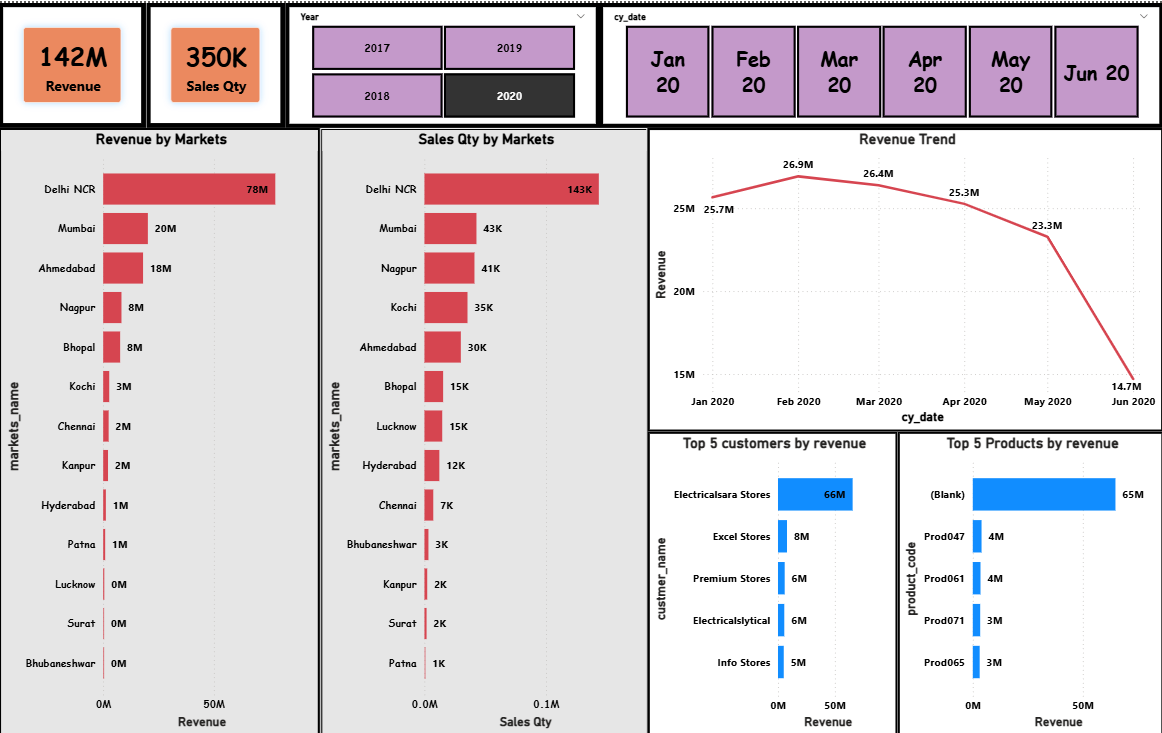

What the dashboard file says about the page in this screenshot:
{"tool":"powerbi","page":{"name":"Sales Dashboard","canvas":[1350,850],"ordinal":0},"visuals":[{"type":"cardVisual","fields":{"Data":["BaseMeasure.Revenue"]},"box":[0,0,170.8,144.7],"z":0},{"type":"cardVisual","fields":{"Data":["BaseMeasure.Sales Qty"]},"box":[170.8,0,160.6,144.7],"z":1000},{"type":"barChart","title":"Revenue by Markets","fields":{"Y":["BaseMeasure.Revenue"],"Category":["sales markets.markets_name"]},"box":[0,144.7,371.9,704.8],"z":2000},{"type":"barChart","title":"Sales Qty by Markets","fields":{"Y":["BaseMeasure.Sales Qty"],"Category":["sales markets.markets_name"]},"box":[371.9,144.7,380.6,704.8],"z":3000},{"type":"slicer","fields":{"Values":["sales date.year"]},"box":[331.4,0,364.7,144.7],"z":4000},{"type":"slicer","fields":{"Values":["sales date.cy_date"]},"box":[696.1,0,654.2,144.7],"z":5000},{"type":"barChart","title":"Top 5 customers by revenue","fields":{"Y":["BaseMeasure.Revenue"],"Category":["sales customers.custmer_name"]},"box":[752.6,496.4,289.5,353.1],"z":6000},{"type":"barChart","title":"Top 5 Products by revenue","fields":{"Y":["BaseMeasure.Revenue"],"Category":["sales products.product_code"]},"box":[1042,496.4,308.3,353.1],"z":7000},{"type":"lineChart","title":"Revenue Trend","fields":{"Y":["BaseMeasure.Revenue"],"Category":["sales date.cy_date"]},"box":[752.6,144.7,597.7,351.7],"z":8000}]}

Visuals, with their boxes in screenshot pixels (x1, y1, x2, y2), scaled from the page's 1350x850 canvas onto the 1162x733 screenshot:
cardVisual - BaseMeasure.Revenue: [0,0,147,125]
cardVisual - BaseMeasure.Sales Qty: [147,0,285,125]
"Revenue by Markets" barChart: [0,125,320,732]
"Sales Qty by Markets" barChart: [320,125,648,732]
slicer - sales date.year: [285,0,599,125]
slicer - sales date.cy_date: [599,0,1161,125]
"Top 5 customers by revenue" barChart: [648,428,897,732]
"Top 5 Products by revenue" barChart: [897,428,1161,732]
"Revenue Trend" lineChart: [648,125,1161,428]
